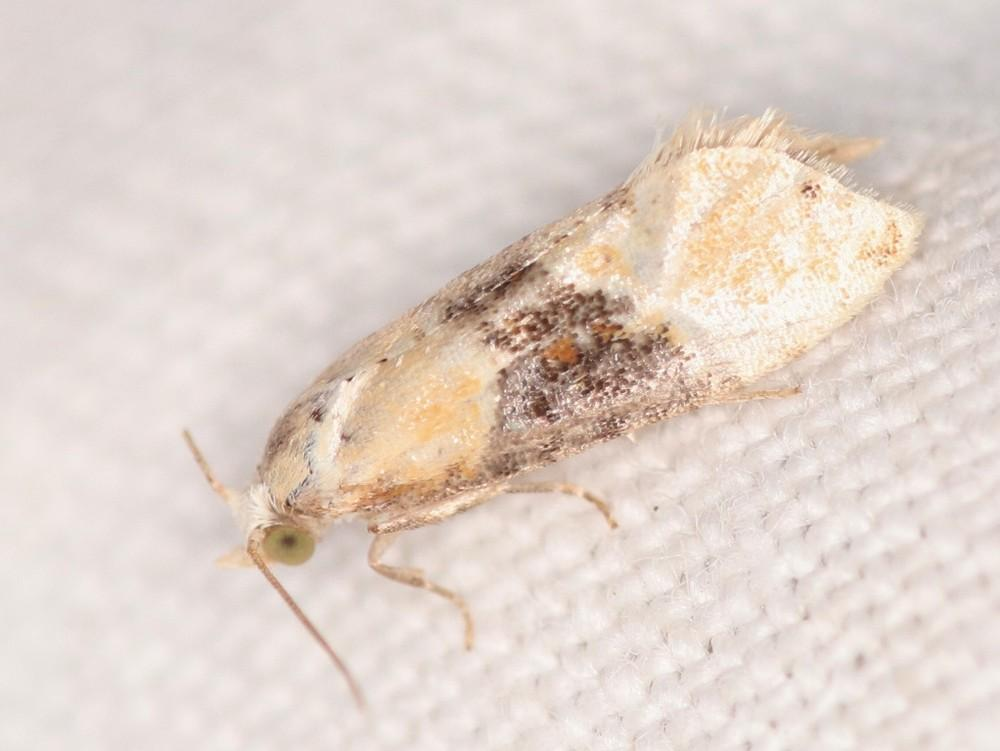Eupoecilia Ambiguella: (178, 103, 927, 713)
